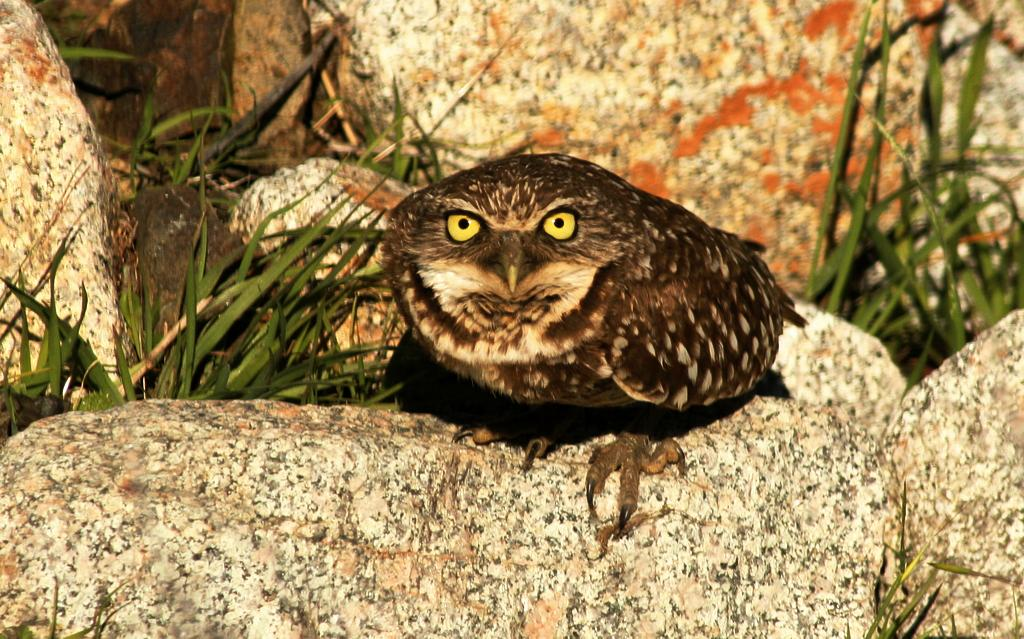Owl: (382, 152, 818, 538)
